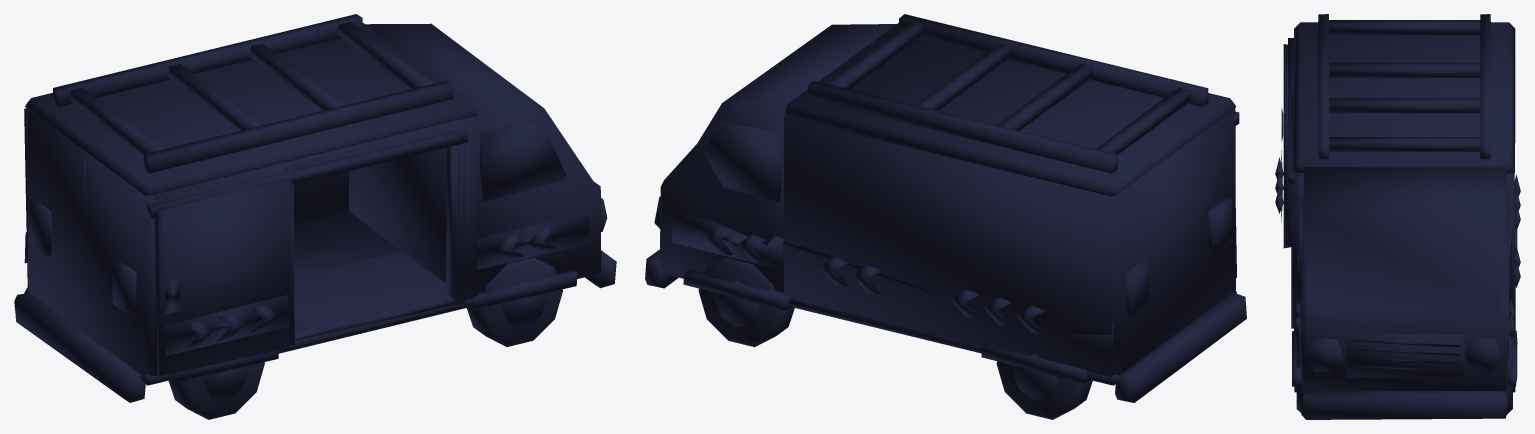
The model's file is Van_Outline.fbx.
The picture shows the model from 3 angles, left to right: view 1: azimuth 30°, elevation 25°; view 2: azimuth 150°, elevation 25°; view 3: azimuth 270°, elevation 25°; orthographic projection. The views are drawn at different scales.
Parts seen in each view (by area): view 1: Van_Outline, Van_Paint_Outline; view 2: Van_Paint_Outline, Van_Outline; view 3: Van_Outline, Van_Paint_Outline.
Boxes of the visible parts, <box> form: Van_Outline: <box>14,14,616,419</box>; Van_Paint_Outline: <box>24,23,601,376</box>; Van_Paint_Outline: <box>659,24,1236,376</box>; Van_Outline: <box>645,14,1246,419</box>; Van_Outline: <box>1275,14,1520,419</box>; Van_Paint_Outline: <box>1283,44,1514,392</box>.
Size of the model in its own units: 15.03 by 7.79 by 7.29.
Materials: 1 (1 with a texture image).
